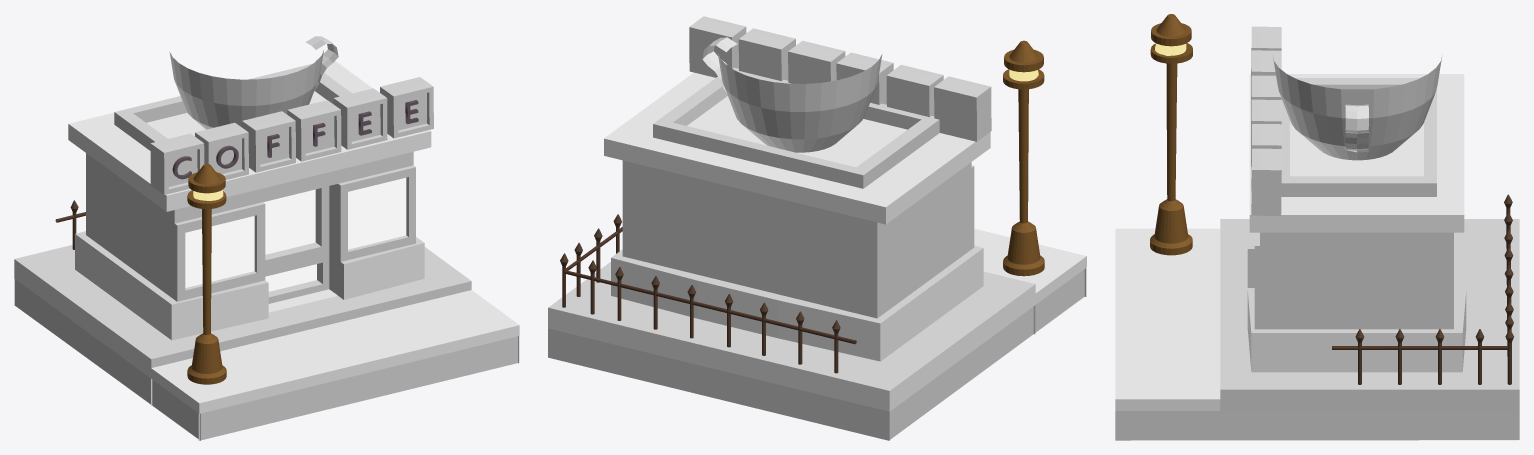
File: COFFEE.glb
3 views of the same model, side by side, from view 1: azimuth 30°, elevation 25°; view 2: azimuth 150°, elevation 25°; view 3: azimuth 270°, elevation 25° (orthographic). The views are drawn at different scales.
Parts seen in each view (by area): view 1: Plane, l, Circle, Plane.006, Plane.008, Plane.003, Plane.009, Plane.005, Plane.007, Plane.004; view 2: Plane, l, Circle, Plane.008, Plane.002, Plane.003, Plane.007, Plane.009, Plane.005, Plane.001, Plane.006, Plane.004; view 3: Plane, l, Circle, Plane.002, Plane.009, Plane.004, Plane.008, Plane.005, Plane.003, Plane.007, Plane.006, Plane.001.
Boxes of the visible parts, x1,y1,x2,y2 form: Plane: [14, 61, 519, 440]; l: [169, 50, 323, 129]; Circle: [187, 163, 226, 384]; Plane.006: [242, 111, 295, 172]; Plane.008: [150, 133, 204, 194]; Plane.003: [333, 88, 387, 149]; Plane.009: [380, 77, 433, 138]; Plane.005: [287, 100, 341, 161]; Plane.007: [195, 122, 248, 179]; Plane.004: [305, 36, 338, 91]; Plane: [548, 67, 1086, 440]; l: [717, 52, 882, 152]; Circle: [1003, 40, 1044, 276]; Plane.008: [934, 76, 991, 141]; Plane.002: [560, 214, 840, 373]; Plane.003: [738, 28, 795, 80]; Plane.007: [886, 64, 943, 116]; Plane.009: [689, 16, 746, 77]; Plane.005: [788, 40, 845, 83]; Plane.001: [564, 227, 856, 344]; Plane.006: [836, 52, 893, 104]; Plane.004: [702, 37, 737, 94]; Plane: [1115, 74, 1519, 440]; l: [1272, 55, 1441, 160]; Circle: [1150, 14, 1192, 255]; Plane.002: [1355, 194, 1513, 384]; Plane.009: [1251, 148, 1281, 215]; Plane.004: [1344, 104, 1368, 152]; Plane.008: [1251, 26, 1281, 92]; Plane.005: [1251, 99, 1281, 166]; Plane.003: [1251, 124, 1281, 184]; Plane.007: [1251, 50, 1281, 117]; Plane.006: [1251, 75, 1281, 141]; Plane.001: [1332, 211, 1510, 349].
Size of what is drawn, in the model's own units: 10.59 by 8.68 by 10.6.
